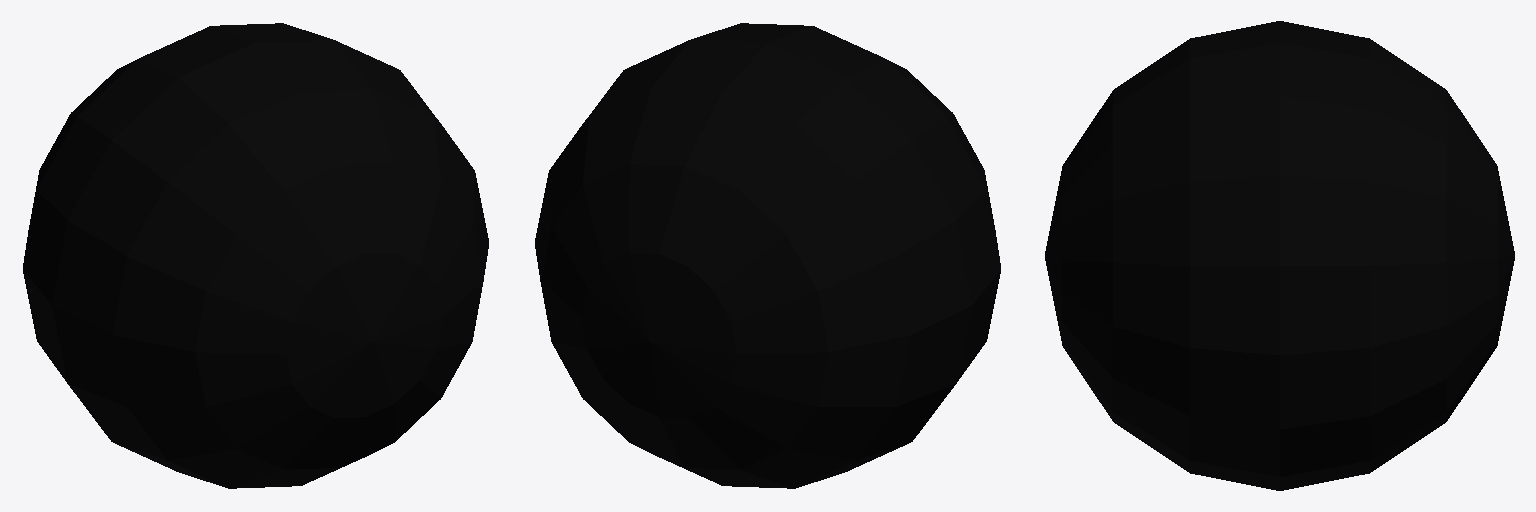
File: editor_controller_pointer_tip.sgm.obj
The picture shows the model from 3 angles: view 1: azimuth 30°, elevation 25°; view 2: azimuth 150°, elevation 25°; view 3: azimuth 270°, elevation 25°; orthographic projection.
Visible parts, largest first — view 1: 0; view 2: 0; view 3: 0.
Boxes of the visible parts, x1,y1,x2,y2 form: 0: [23, 23, 488, 488]; 0: [535, 23, 1000, 488]; 0: [1045, 21, 1514, 490].
Size of the model in its own units: 0.002 by 0.002 by 0.002.